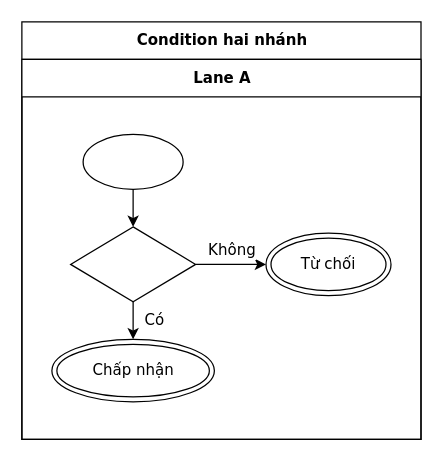
Some shapes in this 444 by 461 pixel diagram are drawn without their labels. Here are the shapes that lost their labels. From the top down, the box of each, then its label:
(82, 133, 183, 189): Vào
(69, 226, 196, 302): Hợp lệ?
